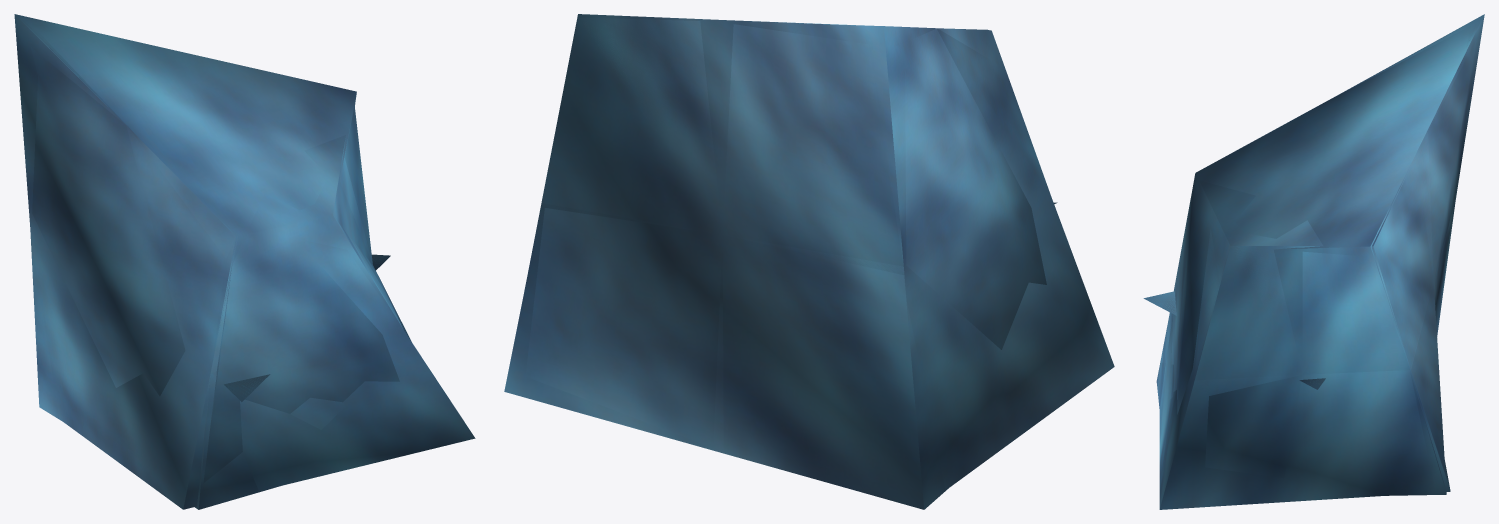
File: NEW ARCHLOD.fbx
The picture shows the model from 3 angles, left to right: view 1: azimuth 30°, elevation 25°; view 2: azimuth 150°, elevation 25°; view 3: azimuth 270°, elevation 25°; orthographic projection. The views are drawn at different scales.
Parts seen in each view (by area): view 1: Cube, Cube.002, Cube.001, Cube.003; view 2: Cube.002, Cube.001, Cube; view 3: Cube.001, Cube, Cube.002, Cube.003.
Boxes of the visible parts, box(x1,y1,x2,y2) form: Cube: box(14, 14, 475, 509); Cube.002: box(20, 17, 411, 483); Cube.001: box(20, 17, 403, 509); Cube.003: box(224, 254, 390, 401); Cube.002: box(504, 18, 1046, 509); Cube.001: box(506, 17, 1049, 451); Cube: box(505, 14, 1114, 490); Cube.001: box(1156, 17, 1480, 500); Cube: box(1159, 14, 1484, 509); Cube.002: box(1160, 43, 1475, 495); Cube.003: box(1143, 291, 1325, 389).
Size of the model in its own units: 205 by 245 by 210.
